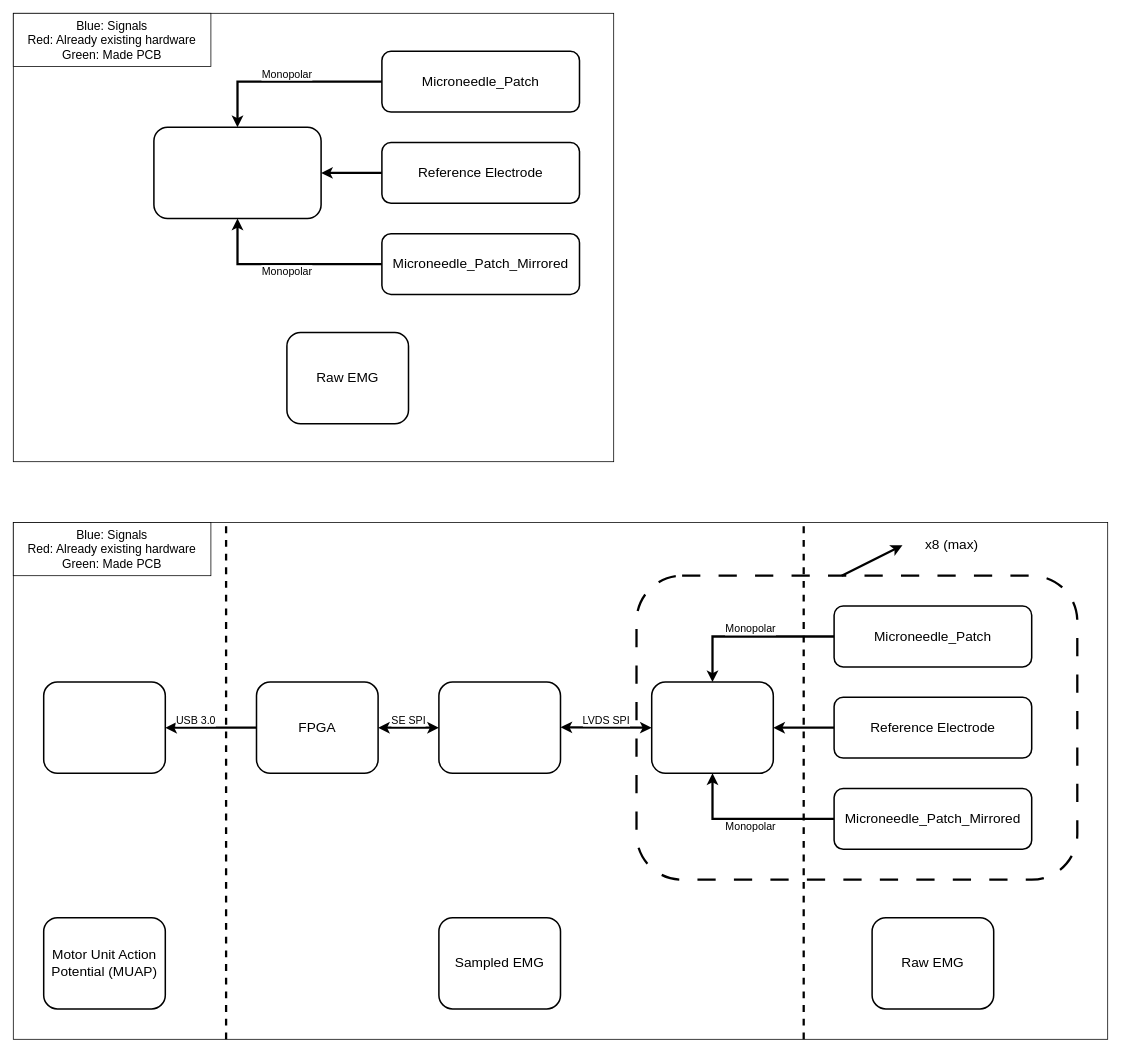
Some shapes in this 1121 by 1054 pixel diagram are drawn without their labels. The shapes that lost their labels are listed below. From the top down, each one's centre as x and y in pixels, then its label:
the point at 237,172: Electrode_Breakout
the point at 104,727: Computer
the point at 499,727: FPGA_DB
the point at 712,727: RHD2132_64CH
